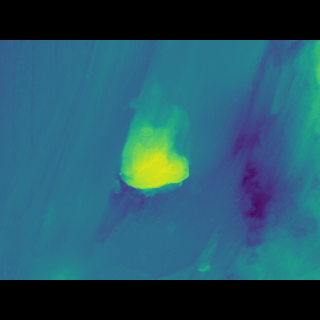Loch: (93, 102, 195, 225)
